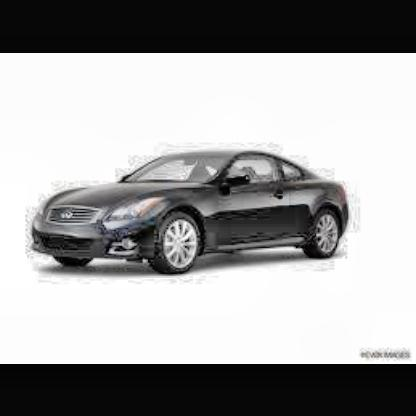Infiniti G Coupe IPL 2012: (31, 151, 357, 276)
